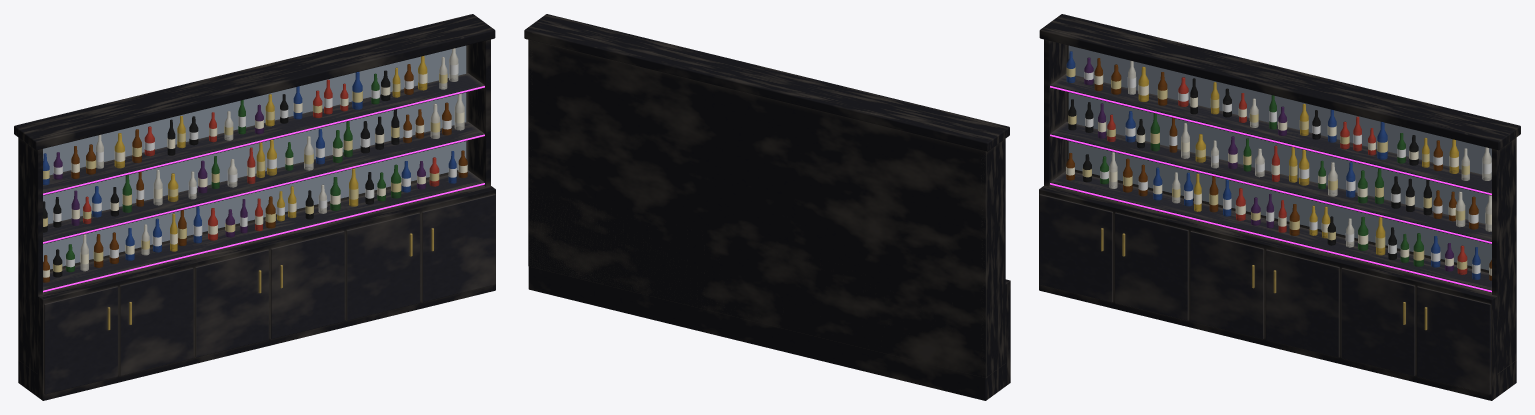
The model's file is klub_regal.glb.
3 views of the same model, side by side, from view 1: azimuth 30°, elevation 25°; view 2: azimuth 150°, elevation 25°; view 3: azimuth 330°, elevation 25° (orthographic).
Parts seen in each view (by area): view 1: Regal, Lustro, Butelki, SwiatloLed; view 2: Regal; view 3: Regal, Lustro, Butelki, SwiatloLed.
Boxes of the visible parts, x1,y1,x2,y2 form: Regal: (14, 14, 495, 400); Lustro: (43, 45, 466, 269); Butelki: (43, 48, 467, 282); SwiatloLed: (43, 86, 484, 292); Regal: (524, 14, 1010, 400); Regal: (1039, 14, 1520, 400); Lustro: (1068, 45, 1491, 270); Butelki: (1066, 51, 1491, 280); SwiatloLed: (1050, 86, 1491, 292).
Bounding box in the file's own units: 4.26 × 2.28 × 0.45.
14 materials, 1 textured.
